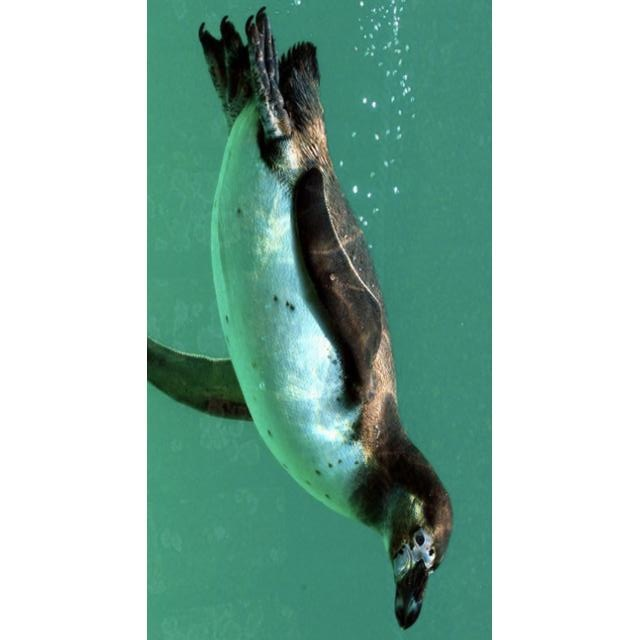penguin: (149, 6, 453, 630)
